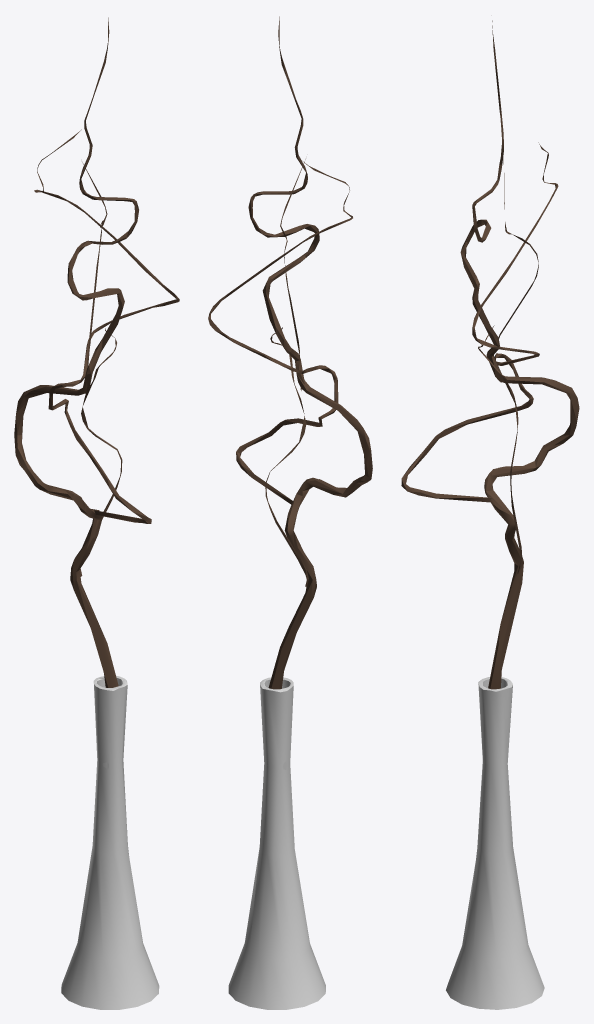
File: Vase 3.FBX
3 renders of one model, left to right at view 1: azimuth 30°, elevation 25°; view 2: azimuth 210°, elevation 25°; view 3: azimuth 270°, elevation 25°, orthographic.
Parts seen in each view (by area): view 1: vase 3; view 2: vase 3; view 3: vase 3.
Part boxes in pixels (bbox=[...]): vase 3: bbox=[14, 17, 179, 1009]; vase 3: bbox=[208, 16, 372, 1009]; vase 3: bbox=[401, 20, 579, 1009].
Bounding box in the file's own units: 193 × 247 × 1487.
